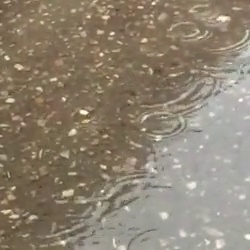drop: (98, 171, 170, 231), (138, 109, 187, 139), (166, 19, 210, 45), (127, 229, 168, 250), (188, 2, 219, 21), (72, 106, 100, 127)
